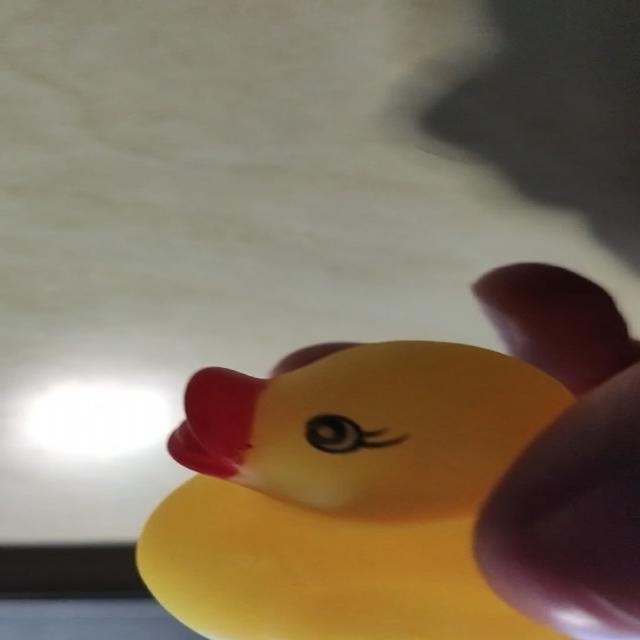rubber-duck: (137, 340, 571, 638), (477, 364, 638, 638), (555, 457, 591, 507)
